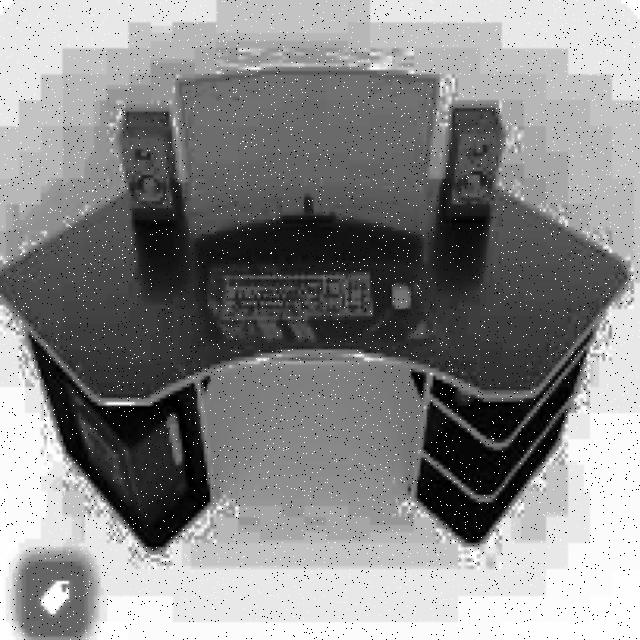table: (0, 167, 627, 550)
